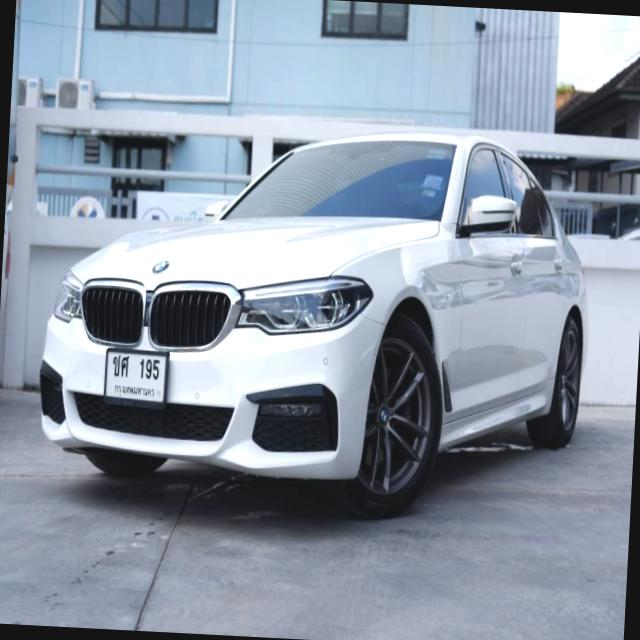license_plate: (104, 345, 170, 408)
